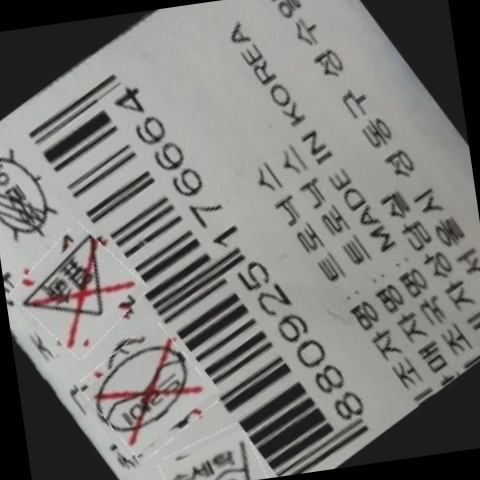DN_dry_clean: (88, 334, 198, 445)
hand_wash: (161, 433, 252, 480)
line_dry_in_shade: (0, 144, 57, 242)
non_chlorine_bleach: (16, 235, 123, 341)
